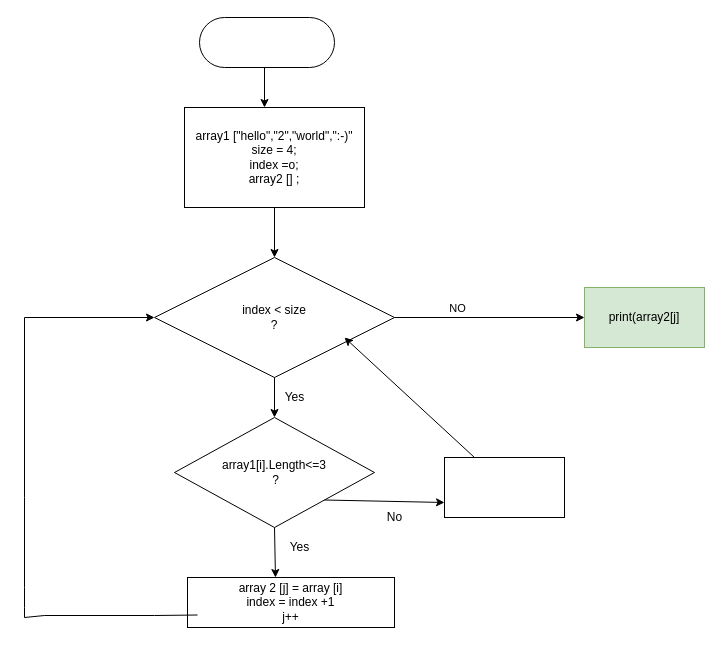
The diagram is 722 pixels wide and 645 high, and some of its shapes have lost their labels. The shapes that lost their labels are listed below. From the top down, each one's box as (x1, y1, x2, y2) in pixels, then its label:
(198, 16, 334, 68): Start
(444, 456, 564, 518): index2 = index2 +1
